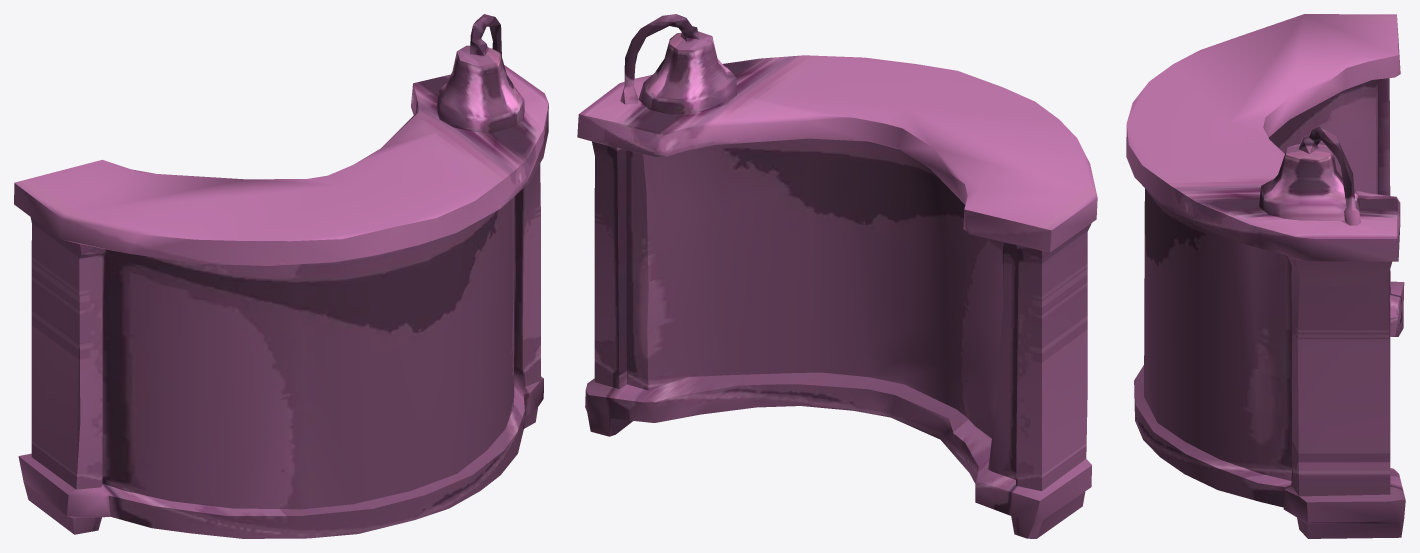
The picture shows the model from 3 angles, left to right: view 1: azimuth 30°, elevation 25°; view 2: azimuth 150°, elevation 25°; view 3: azimuth 270°, elevation 25°; orthographic projection. The views are drawn at different scales.
Visible parts, largest first — view 1: Decor_info_desk_c_berry; view 2: Decor_info_desk_c_berry; view 3: Decor_info_desk_c_berry.
Boxes of the visible parts, left/top/right/bottom form: Decor_info_desk_c_berry: left=14, top=14, right=548, bottom=538; Decor_info_desk_c_berry: left=577, top=14, right=1097, bottom=538; Decor_info_desk_c_berry: left=1126, top=14, right=1405, bottom=538.
Bounding box in the file's own units: 1.36 × 1.1 × 0.7119.
1 material, 1 textured.
